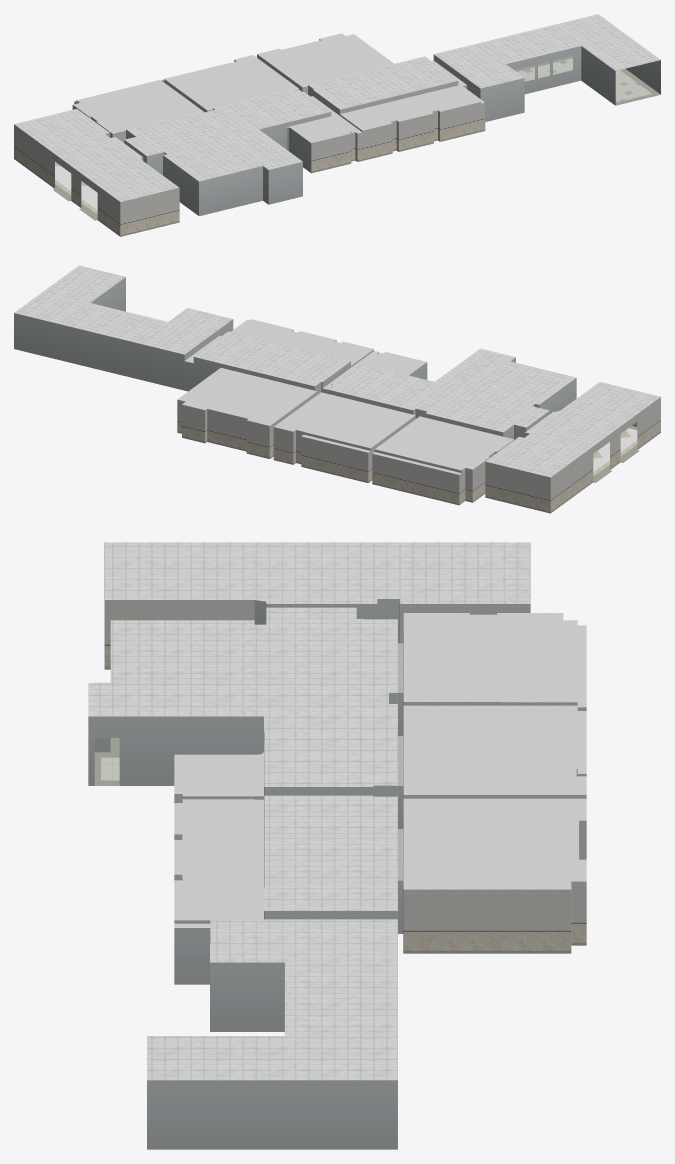
The model's file is env_traumaShell01.FBX.
3 views of the same model, one above another, from view 1: azimuth 30°, elevation 25°; view 2: azimuth 150°, elevation 25°; view 3: azimuth 270°, elevation 25° (orthographic). The views are drawn at different scales.
Visible parts, largest first — view 1: traumaFloor, trauma; view 2: traumaFloor, trauma; view 3: traumaFloor, trauma.
Boxes of the visible parts, x1,y1,x2,y2 form: traumaFloor: [14, 14, 660, 219]; trauma: [14, 39, 660, 236]; traumaFloor: [14, 265, 660, 481]; trauma: [14, 277, 660, 513]; traumaFloor: [88, 542, 586, 1079]; trauma: [88, 599, 586, 1149].
Bounding box in the file's own units: 50.89 × 3.06 × 19.84.
